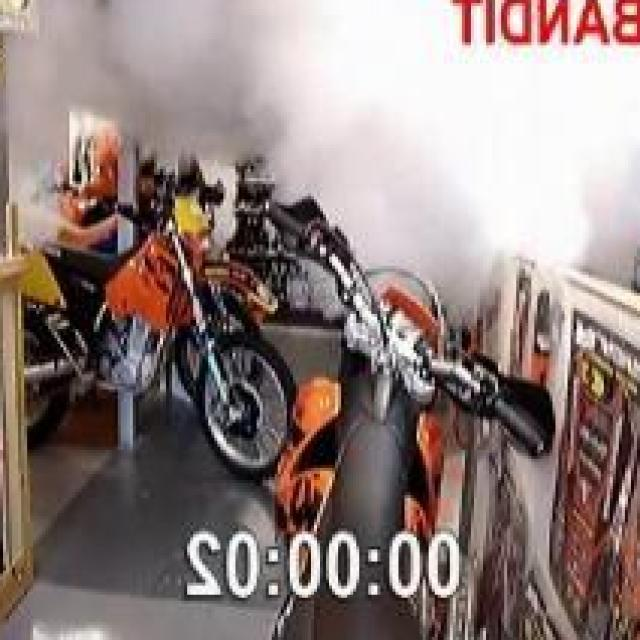fire: (3, 0, 640, 305)
